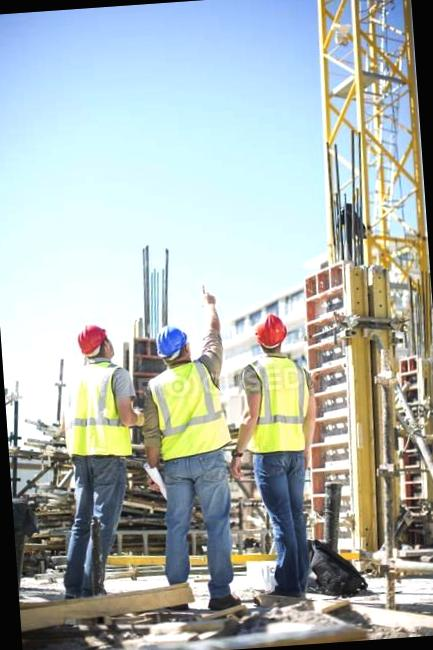helmet: (249, 308, 291, 354), (150, 321, 190, 366), (66, 318, 108, 359)
person: (136, 316, 252, 622), (36, 315, 154, 600), (228, 304, 323, 602)
